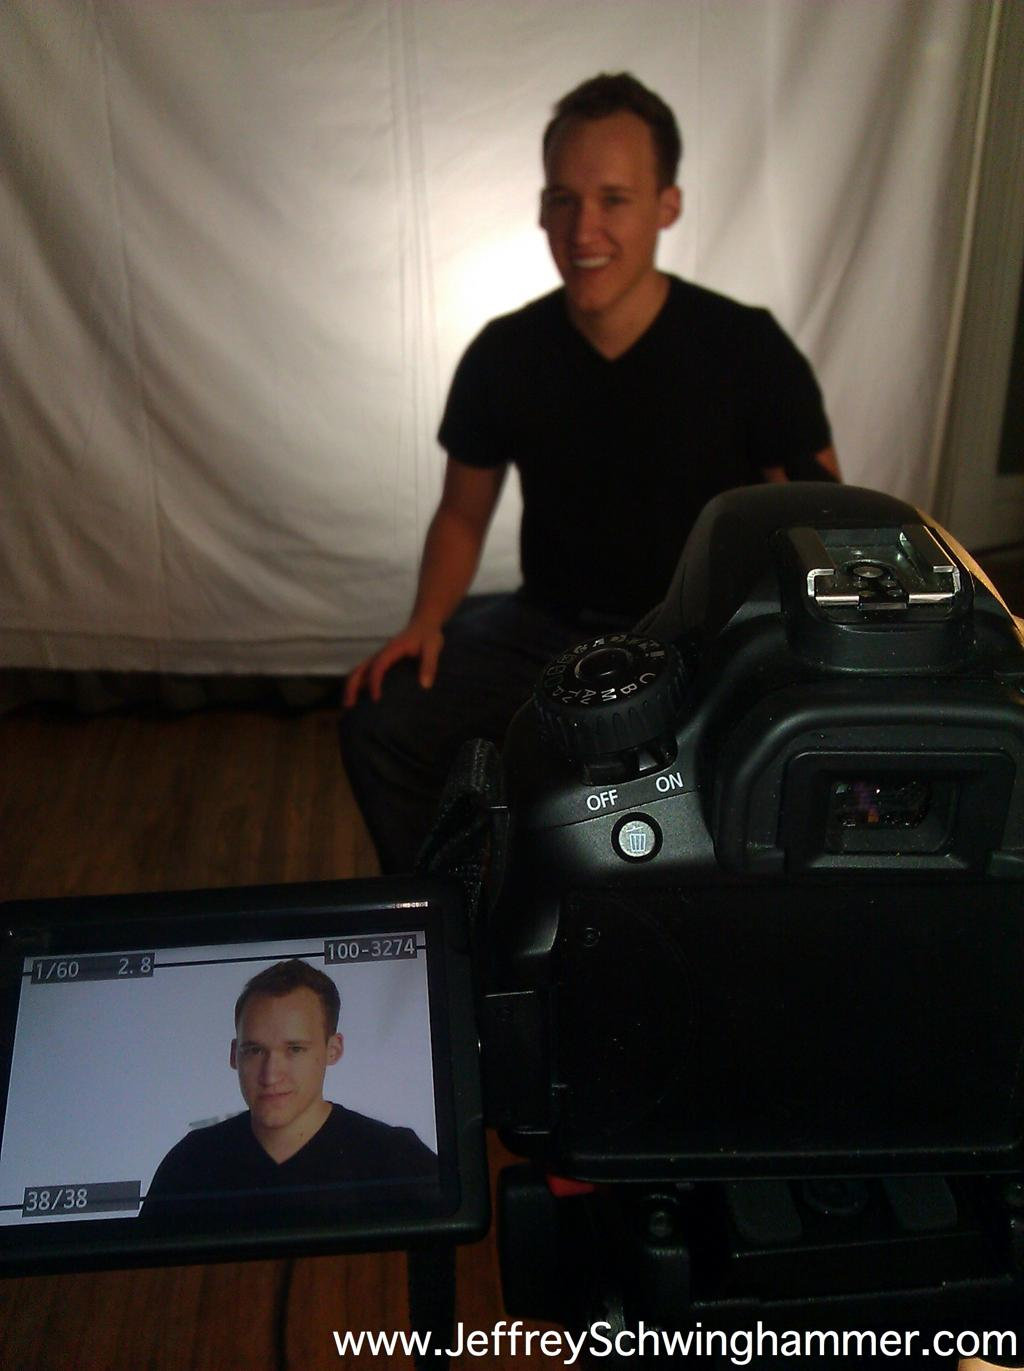face: (541, 121, 662, 317), (241, 989, 324, 1115)
